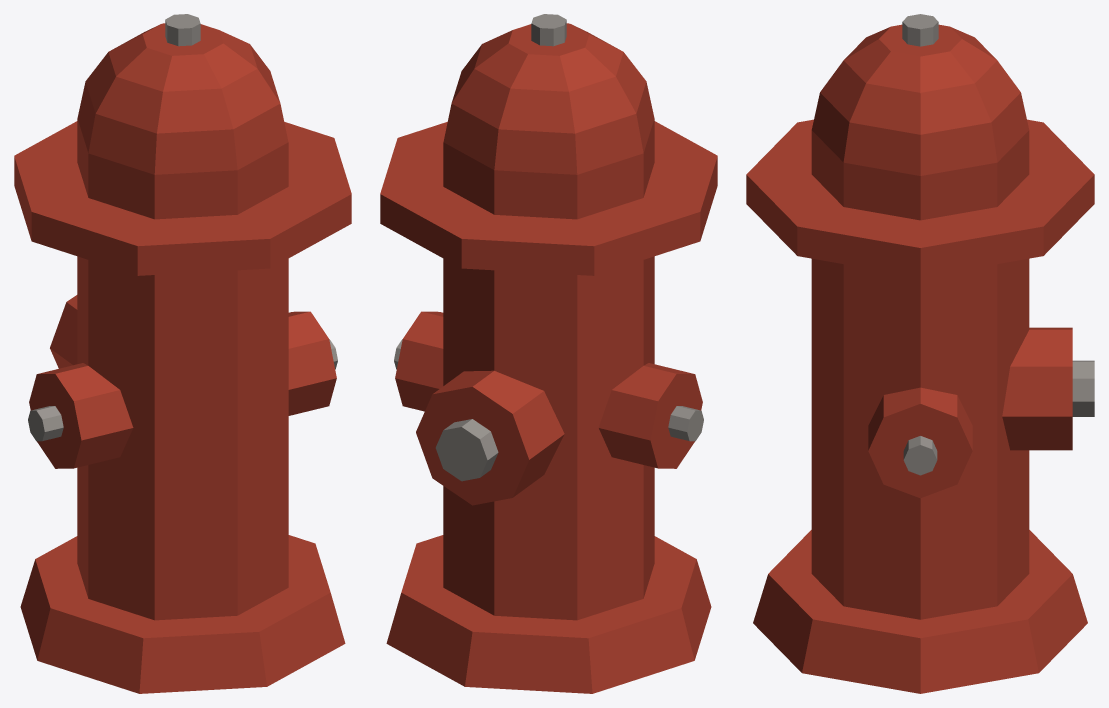
Rendered from FireHydrant.fbx.
3 views of the same model, side by side, from view 1: azimuth 30°, elevation 25°; view 2: azimuth 150°, elevation 25°; view 3: azimuth 270°, elevation 25° (orthographic).
Parts seen in each view (by area): view 1: FireHydrant; view 2: FireHydrant; view 3: FireHydrant.
Boxes of the visible parts, left/top/right/bottom form: FireHydrant: left=14, top=14, right=351, bottom=693; FireHydrant: left=380, top=14, right=717, bottom=693; FireHydrant: left=746, top=14, right=1094, bottom=693.
Size of the model in its own units: 0.48 by 0.915 by 0.48.
